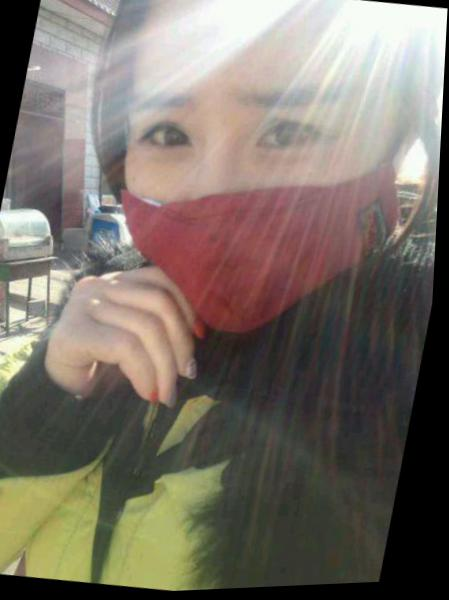WRONG: (86, 47, 395, 358)
